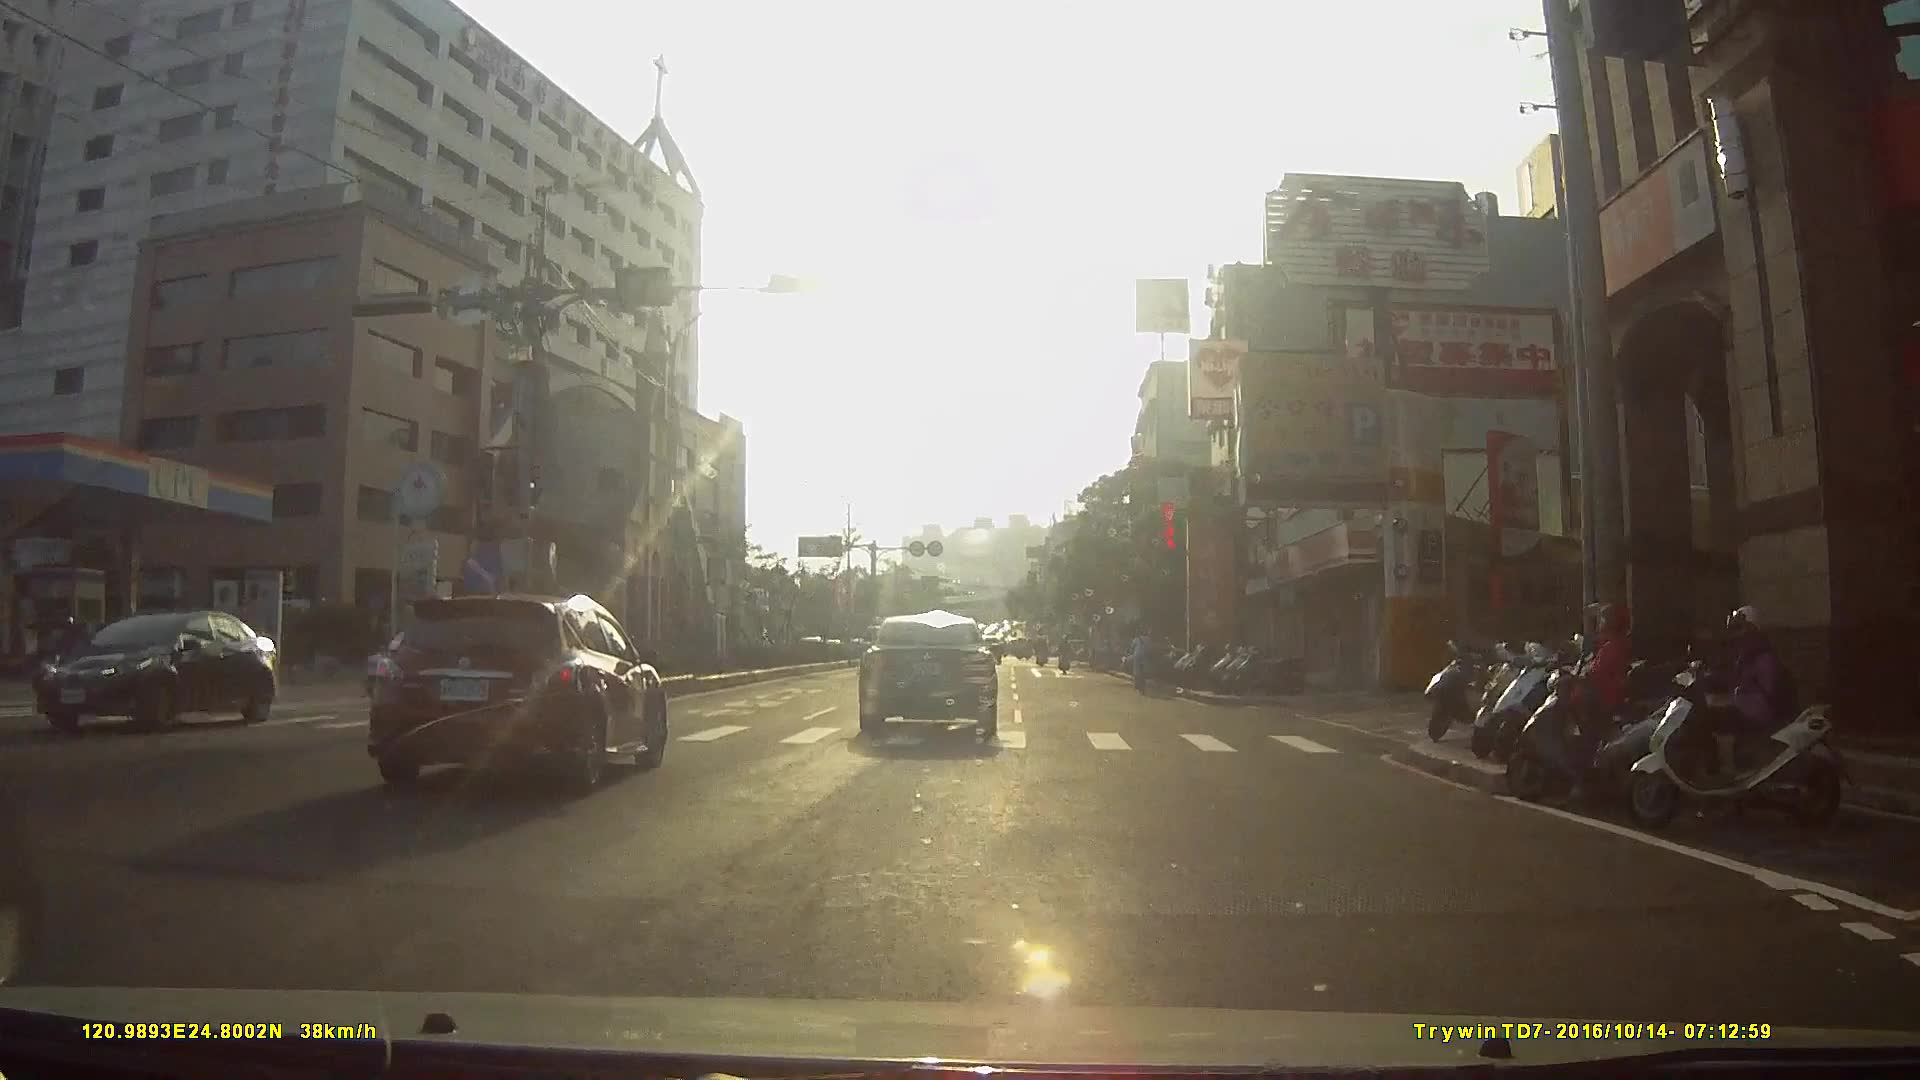rider: (1613, 598, 1867, 837), (1503, 591, 1728, 817), (42, 617, 88, 697), (1128, 625, 1156, 699)
vehicle: (372, 576, 680, 797), (34, 596, 294, 738), (853, 607, 1011, 739), (763, 607, 822, 662)
